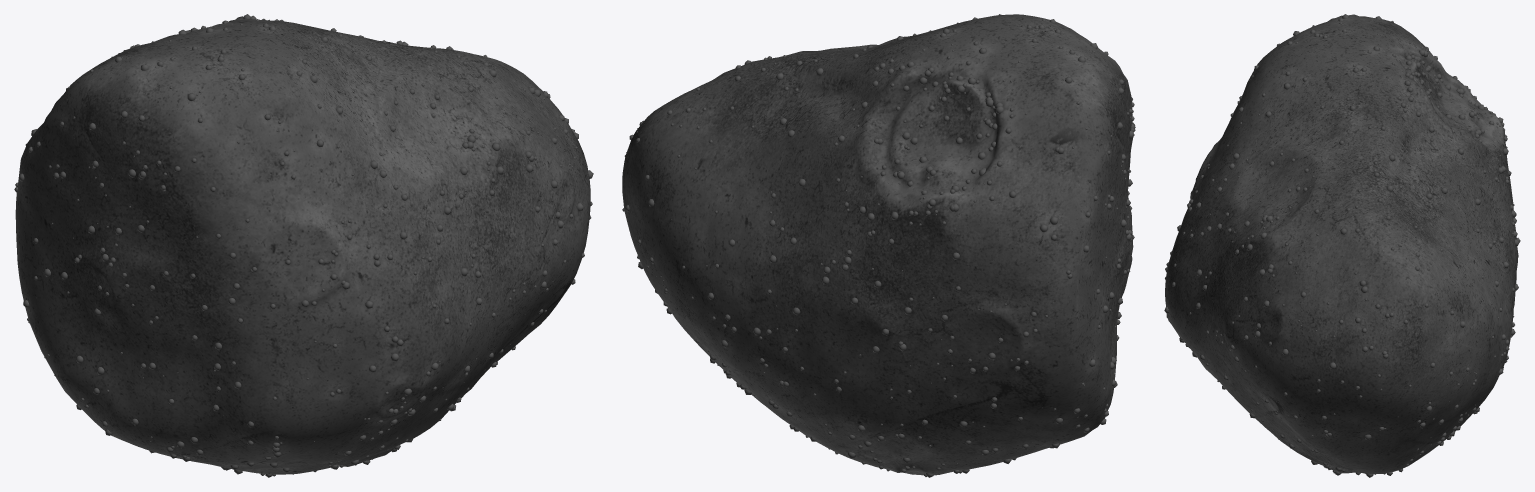
Rendered from meteor.glb.
3 views of the same model, side by side, from view 1: azimuth 30°, elevation 25°; view 2: azimuth 150°, elevation 25°; view 3: azimuth 270°, elevation 25° (orthographic). The views are drawn at different scales.
Parts seen in each view (by area): view 1: Daphne_LP_1_0, Daphe_LP_Debris_2_0; view 2: Daphne_LP_1_0, Daphe_LP_Debris_2_0; view 3: Daphne_LP_1_0, Daphe_LP_Debris_2_0.
Part boxes in pixels (x1,y1,x2,y2): Daphne_LP_1_0: (15, 16, 590, 474); Daphe_LP_Debris_2_0: (14, 14, 593, 477); Daphne_LP_1_0: (622, 14, 1133, 475); Daphe_LP_Debris_2_0: (622, 14, 1135, 477); Daphne_LP_1_0: (1165, 14, 1518, 473); Daphe_LP_Debris_2_0: (1164, 14, 1520, 477).
Bounding box in the file's own units: 234 × 197 × 168.
2 materials, 1 textured.
